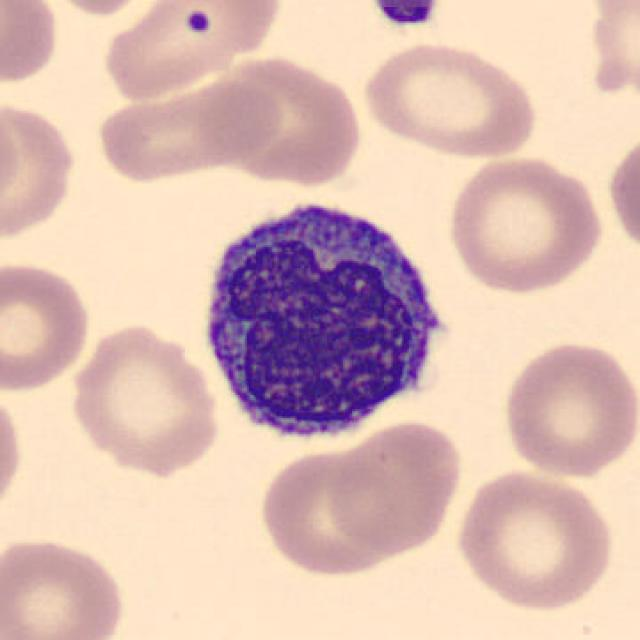Monocyte: (188, 183, 461, 455)
Platelets: (366, 0, 444, 30), (180, 8, 218, 38)
RBC: (66, 319, 222, 478), (452, 466, 618, 614), (443, 152, 608, 296), (359, 37, 542, 160), (206, 50, 366, 190), (92, 71, 282, 185), (254, 442, 407, 578), (498, 337, 638, 481), (324, 418, 466, 557), (98, 0, 282, 104), (0, 532, 130, 640), (0, 257, 94, 395), (0, 95, 80, 247), (586, 0, 640, 113), (0, 0, 62, 92), (604, 127, 640, 259), (0, 382, 27, 522), (0, 94, 25, 215), (30, 0, 171, 18)
